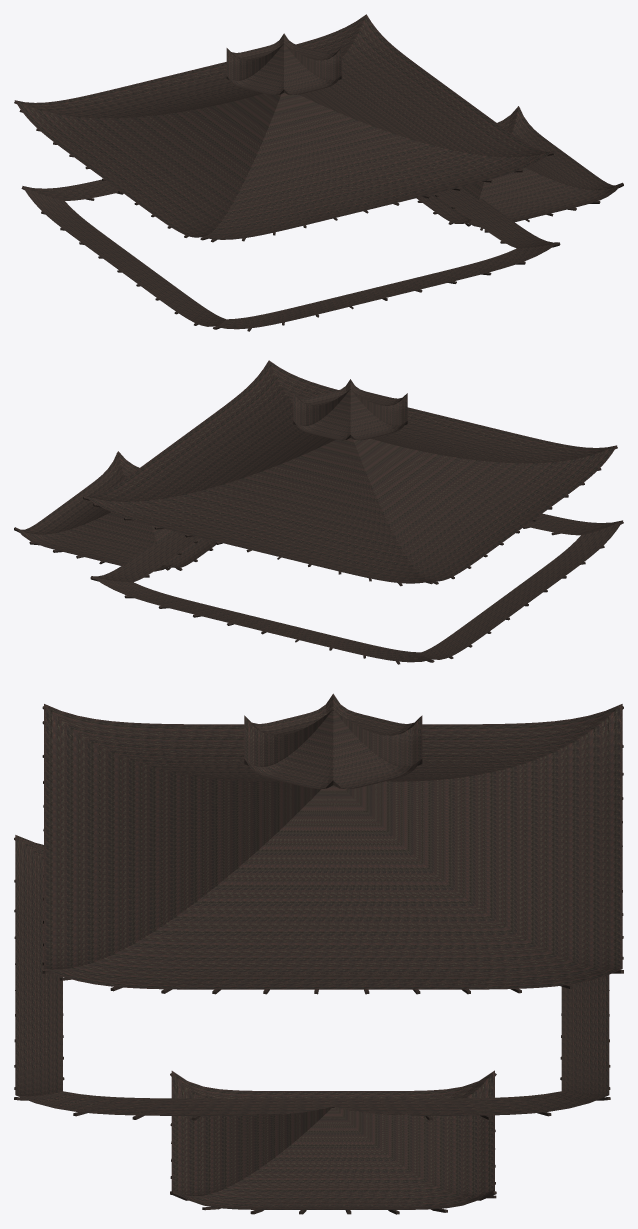
Rendered from tea_ceiling.glb.
3 renders of one model, top to bottom at view 1: azimuth 30°, elevation 25°; view 2: azimuth 150°, elevation 25°; view 3: azimuth 270°, elevation 25°, orthographic. The views are drawn at different scales.
Visible parts, largest first — view 1: tea_ceiling0; view 2: tea_ceiling0; view 3: tea_ceiling0.
Part boxes in pixels (x1,y1,x2,y2): tea_ceiling0: [14, 14, 623, 331]; tea_ceiling0: [14, 360, 623, 664]; tea_ceiling0: [14, 693, 623, 1214].
Size of the model in its own units: 21.79 by 8.46 by 16.03.
1 material, 1 textured.
